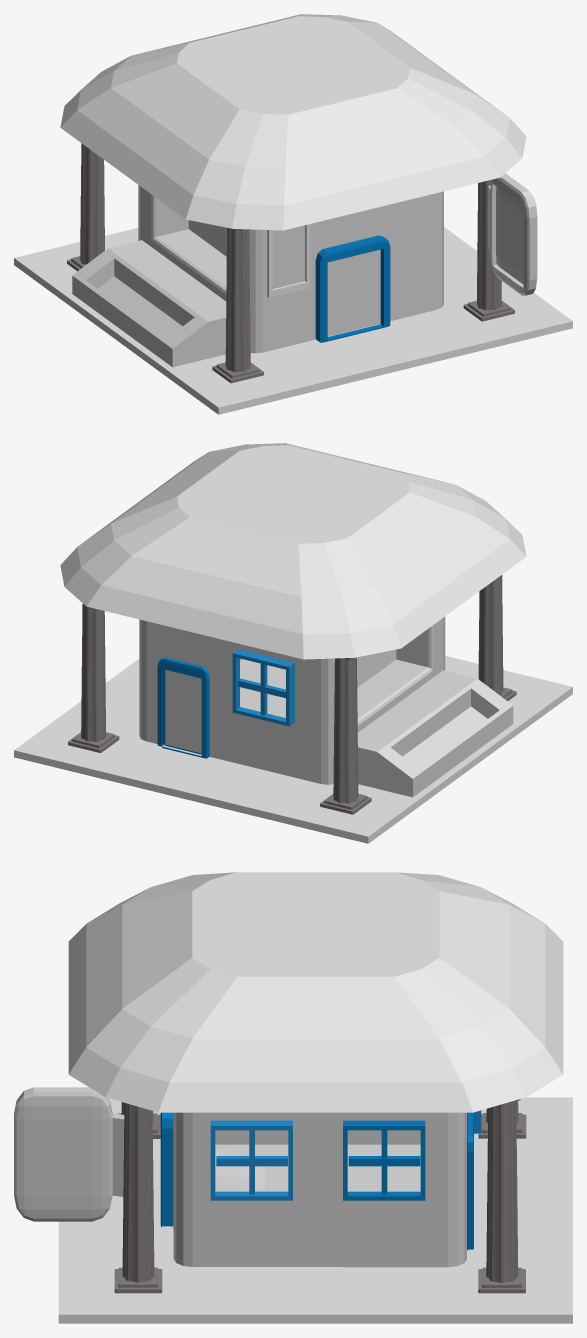
The model's file is TIenda.fbx.
3 renders of one model, top to bottom at view 1: azimuth 30°, elevation 25°; view 2: azimuth 150°, elevation 25°; view 3: azimuth 270°, elevation 25°, orthographic. The views are drawn at different scales.
Parts seen in each view (by area): view 1: Plane.001, Tienda Base, Plataforma, Carro de venta, Panel, Cylinder.003, Puerta 1, Cylinder.002, Cylinder.004, Plane, Ventana grande; view 2: Plane.001, Tienda Base, Plataforma, Carro de venta, Cylinder.002, Cylinder.001, Cylinder.003, Ventana Nº4, Puerta 2, Ventana grande; view 3: Plane.001, Plataforma, Tienda Base, Panel, Cylinder.001, Cylinder.004, Ventana Nº2, Venta Nº1, Carro de venta, Puerta 1, Puerta 2.
Part boxes in pixels (box(x1,y1,x2,y2)): Plane.001: box(60, 14, 526, 230); Tienda Base: box(138, 185, 443, 353); Plataforma: box(14, 227, 572, 414); Carro de venta: box(72, 240, 226, 367); Panel: box(488, 173, 537, 295); Cylinder.003: box(212, 228, 263, 383); Puerta 1: box(315, 235, 390, 342); Cylinder.002: box(67, 143, 104, 271); Cylinder.004: box(463, 180, 514, 321); Plane: box(267, 224, 310, 297); Ventana grande: box(188, 220, 226, 256); Plane.001: box(60, 443, 526, 659); Tienda Base: box(139, 616, 445, 784); Plataforma: box(14, 656, 572, 843); Carro de venta: box(357, 670, 513, 797); Cylinder.002: box(320, 657, 371, 814); Cylinder.001: box(68, 603, 119, 752); Cylinder.003: box(478, 575, 516, 701); Ventana Nº4: box(232, 649, 294, 726); Puerta 2: box(157, 657, 209, 758); Ventana grande: box(357, 649, 396, 687); Plane.001: box(68, 872, 563, 1112); Plataforma: box(58, 1097, 572, 1323); Tienda Base: box(173, 1112, 466, 1267); Panel: box(14, 1087, 124, 1221); Cylinder.001: box(478, 1099, 525, 1293); Cylinder.004: box(114, 1103, 162, 1293); Ventana Nº2: box(343, 1120, 425, 1200); Venta Nº1: box(210, 1120, 292, 1200); Carro de venta: box(215, 1130, 420, 1144); Puerta 1: box(160, 1112, 173, 1227); Puerta 2: box(467, 1112, 473, 1250).
Size of the model in its own units: 1008 by 629 by 1096.
